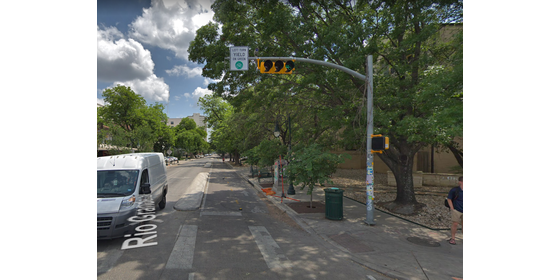left turn yield on green sign: (228, 45, 249, 72)
